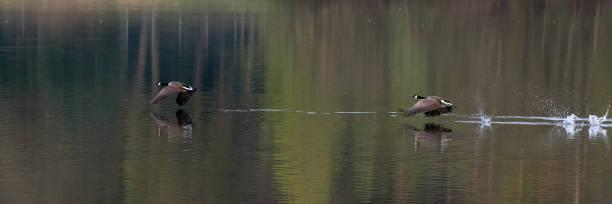Canadian-Goose: (395, 89, 458, 122), (148, 75, 198, 110)
